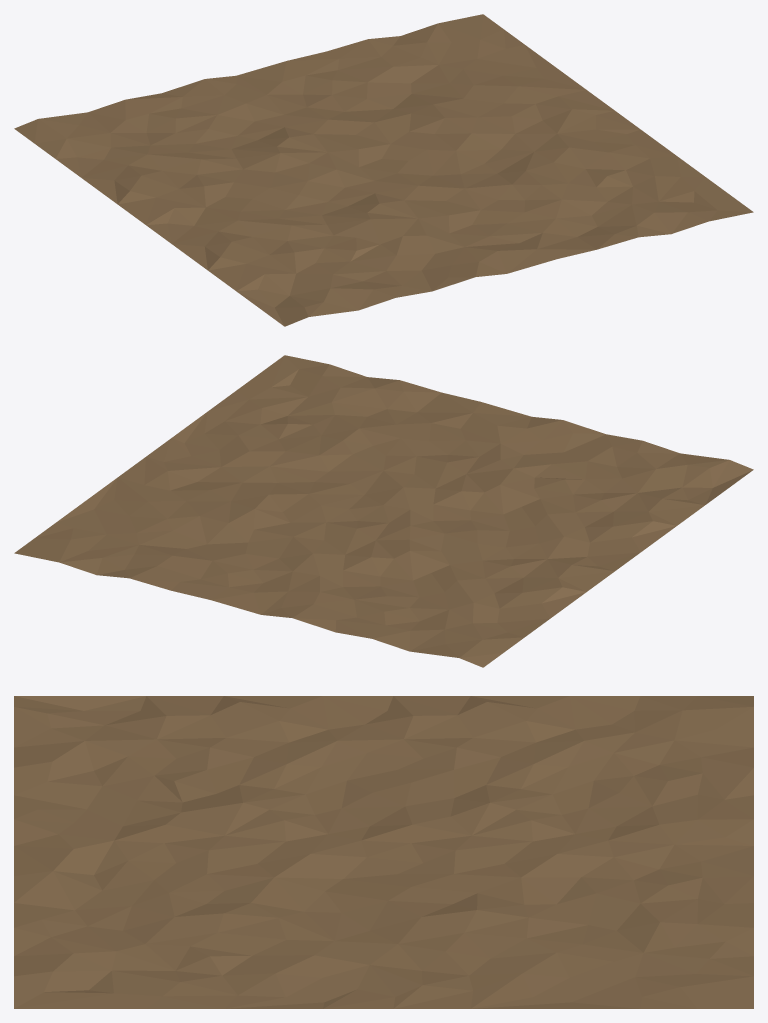
Rendered from ZLP_Ground_B_2.FBX.
3 renders of one model, top to bottom at view 1: azimuth 30°, elevation 25°; view 2: azimuth 150°, elevation 25°; view 3: azimuth 270°, elevation 25°, orthographic. The views are drawn at different scales.
Visible parts, largest first — view 1: ZLP_Ground_B_2; view 2: ZLP_Ground_B_2; view 3: ZLP_Ground_B_2.
Boxes of the visible parts, box(x1,y1,x2,y2) form: ZLP_Ground_B_2: box(14, 14, 753, 326); ZLP_Ground_B_2: box(14, 355, 753, 667); ZLP_Ground_B_2: box(14, 696, 753, 1008).
Bounding box in the file's own units: 600 × 10.03 × 599.
